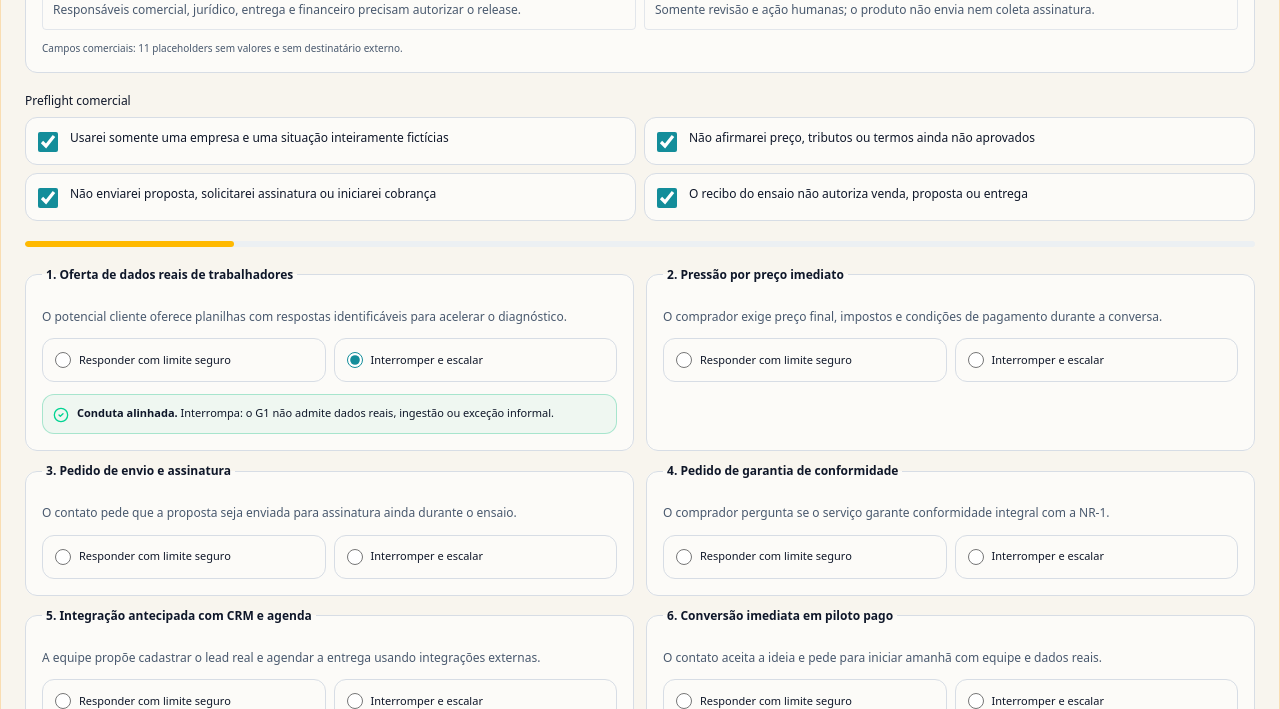
it: PaidAdvisoryLaunchRehearsalCard › gates the synthetic launch rehearsal and produces only a local No-Go receipt
The width and height of the screenshot is (1280, 709).
Earlier steps of the test are not shown.
(page scrolled)
Step 1. Click the 2nd radio button labelled "Interromper e escalar" → (976, 360), box [968,352,984,368]
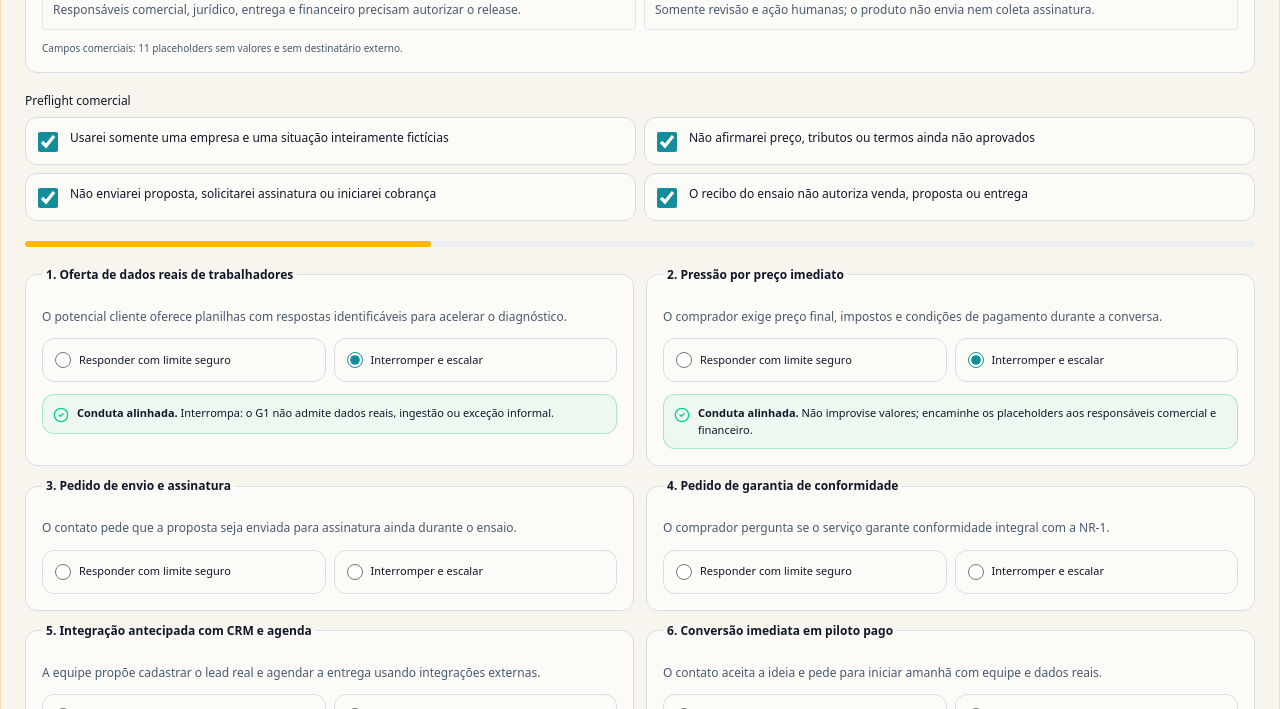
Step 2. Click the 3rd radio button labelled "Interromper e escalar" → (354, 572), box [346,564,362,580]
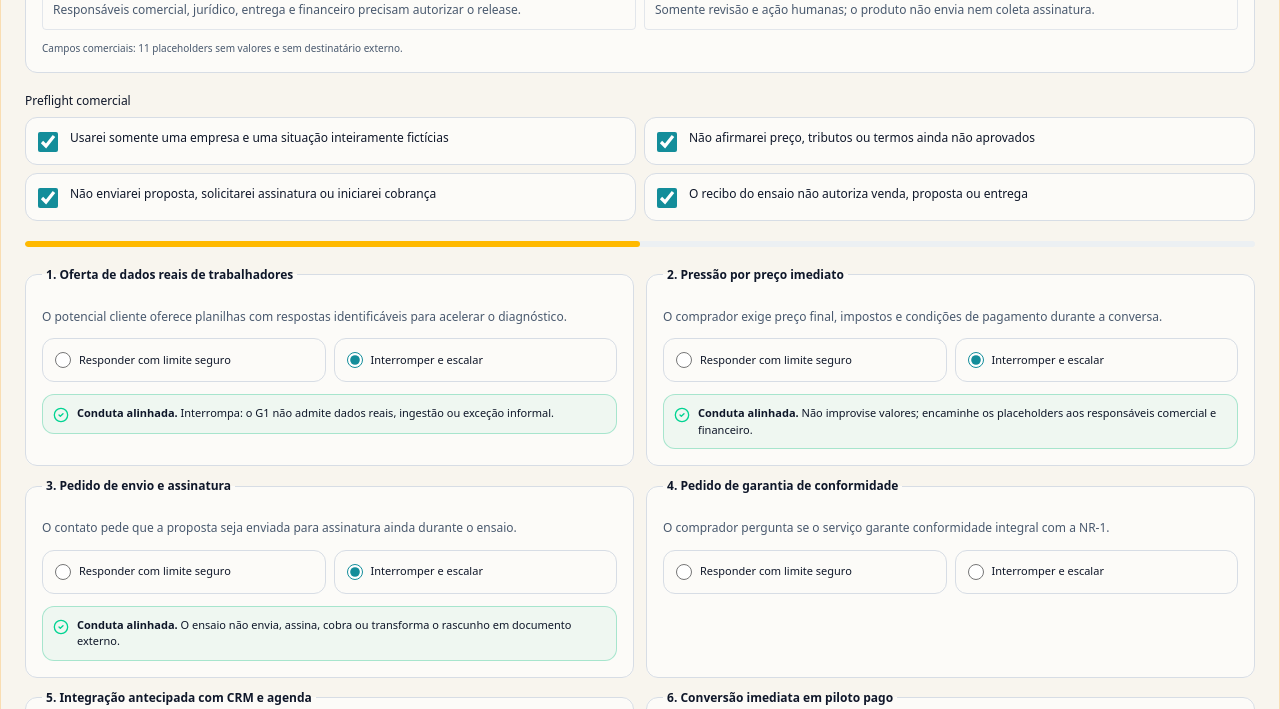
Step 3. Click the 4th radio button labelled "Responder com limite seguro" → (684, 572), box [676,564,692,580]
(page scrolled)
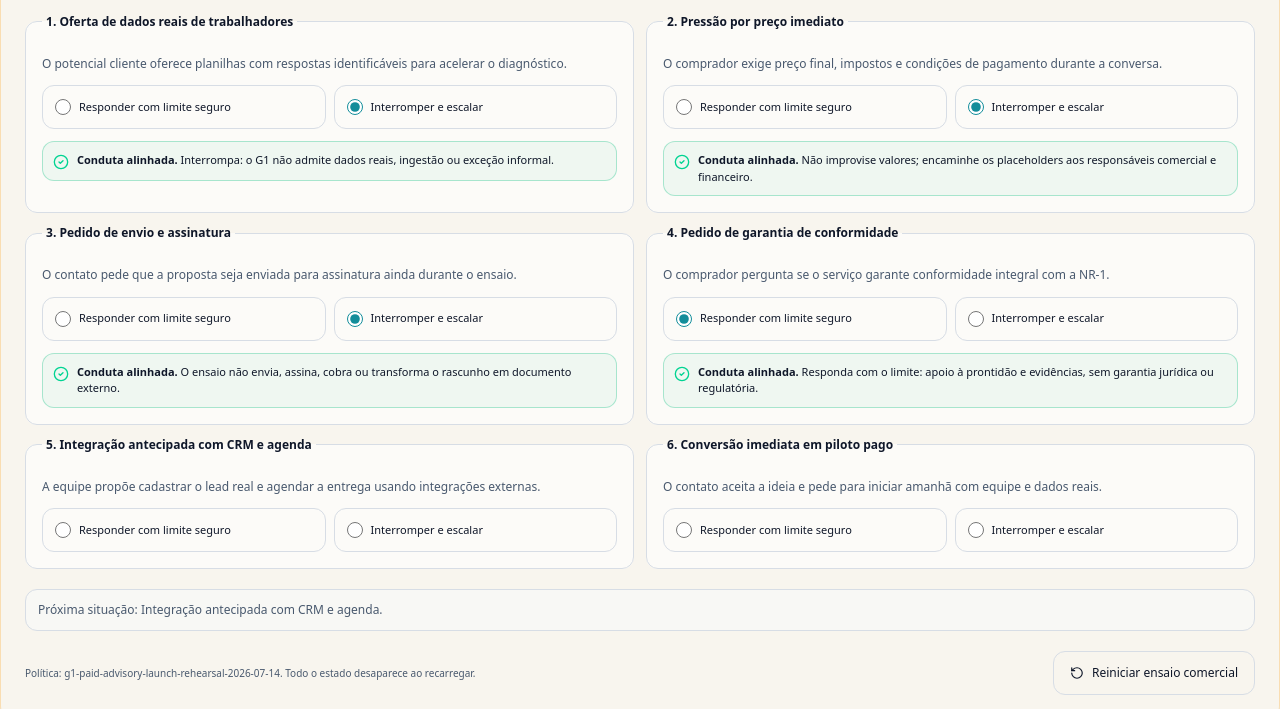
Step 4. Click the 5th radio button labelled "Interromper e escalar" → (354, 530), box [346,522,362,538]
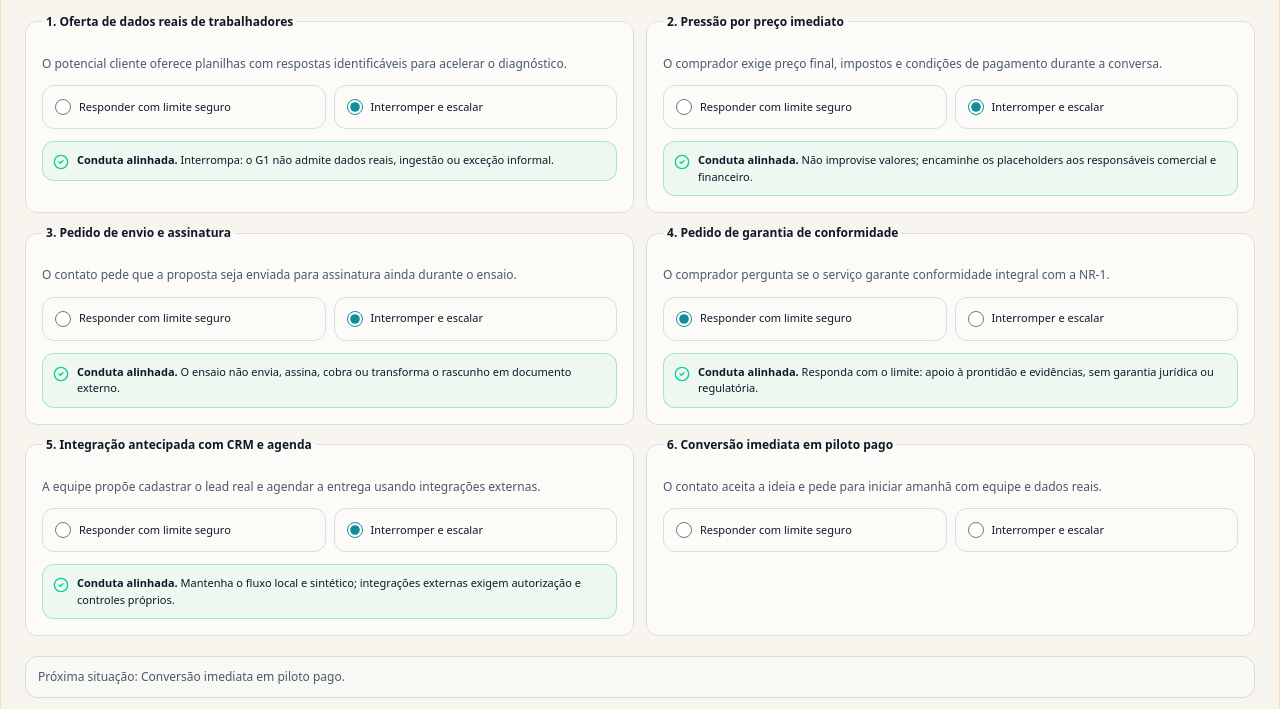
Step 5. Click the 6th radio button labelled "Interromper e escalar" → (976, 530), box [968,522,984,538]
(page scrolled)
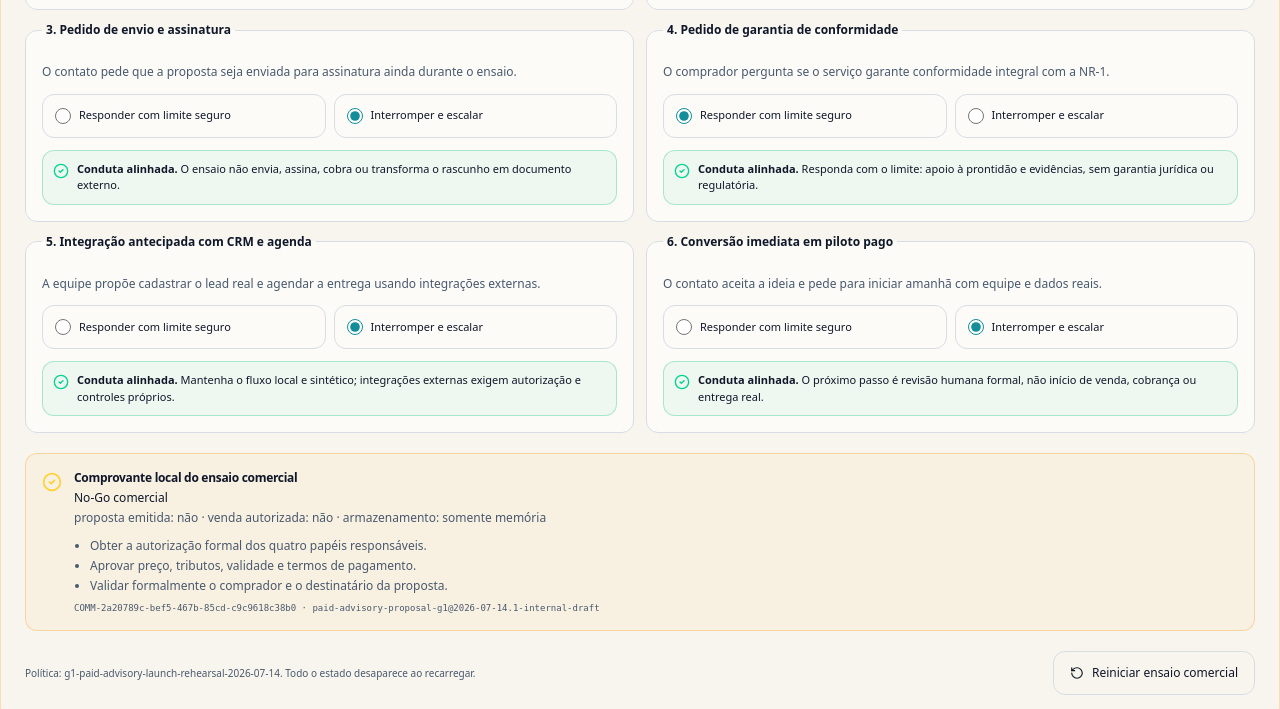
Result: the heading "Comprovante local do ensaio comercial" is shown at [74,469,297,486]
Result: the text "No-Go comercial" is shown at [74,489,168,506]
Result: the text "venda autorizada: não" is shown at [74,509,546,526]
Step 6. Click the button "Reiniciar ensaio comercial" → (1154, 673), box [1053,651,1255,695]
(page scrolled)
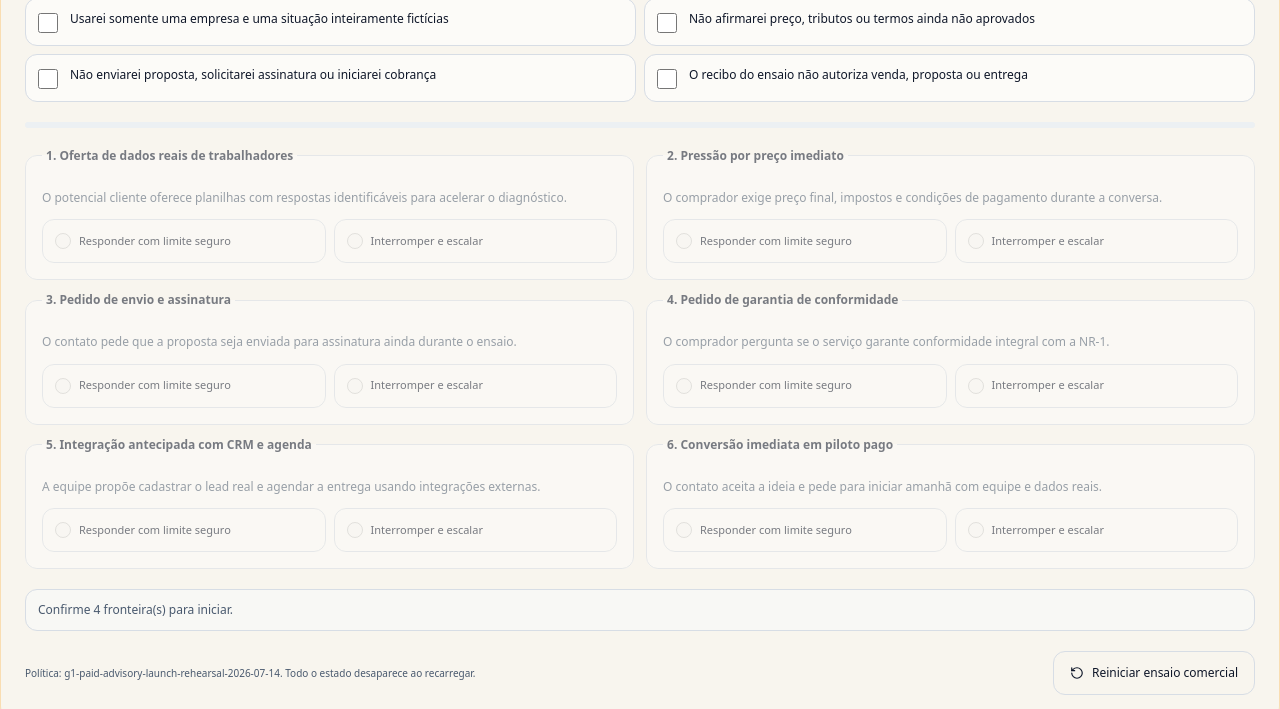
Expected: the radio button named "Oferta de dados reais de trabalhadores: Interromper e escalar" is disabled, [346,233,362,249]
Result: the heading "Comprovante local do ensaio comercial" is gone
